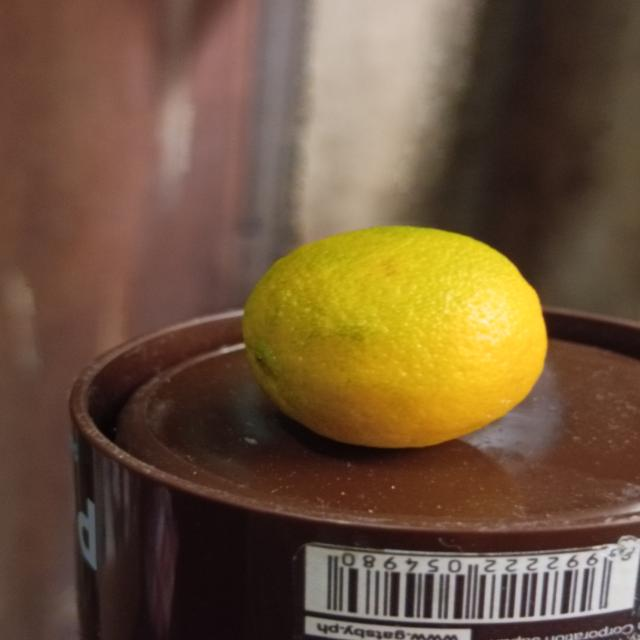greening: (238, 219, 554, 446)
